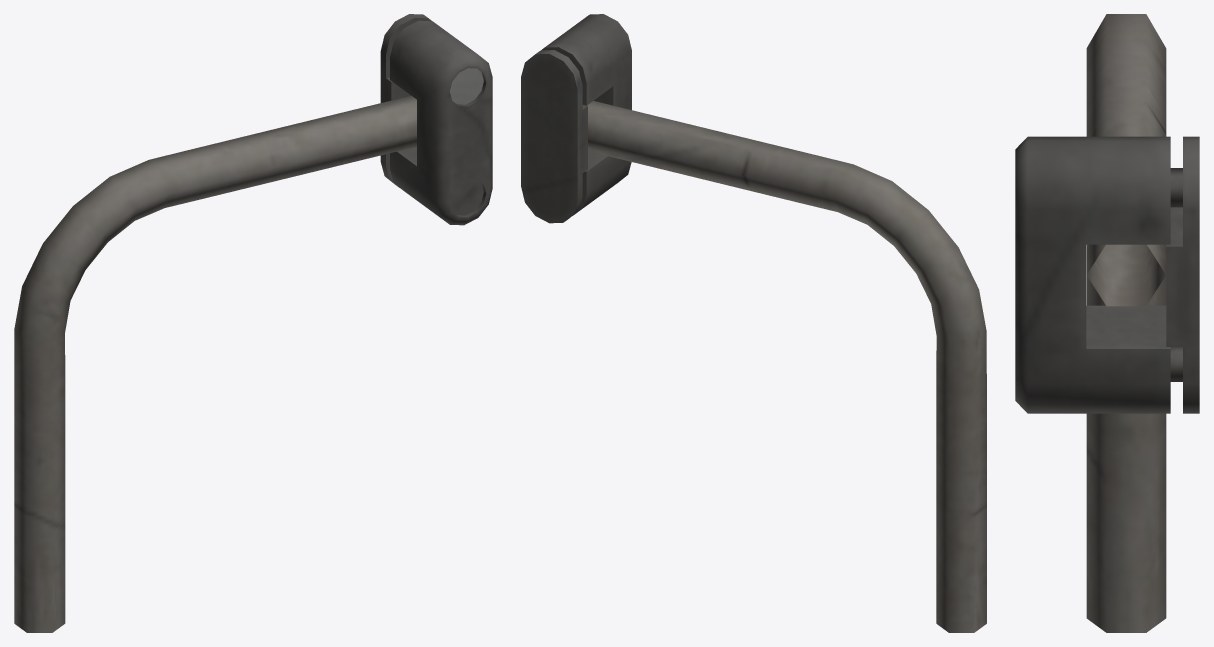
The model's file is cable_turn_short.glb.
3 views of the same model, side by side, from view 1: azimuth 30°, elevation 25°; view 2: azimuth 150°, elevation 25°; view 3: azimuth 270°, elevation 25° (orthographic). The views are drawn at different scales.
Visible parts, largest first — view 1: cable_turn_short; view 2: cable_turn_short; view 3: cable_turn_short.
Boxes of the visible parts, <box> form: cable_turn_short: <box>14,14,492,632</box>; cable_turn_short: <box>521,14,986,632</box>; cable_turn_short: <box>1015,14,1199,632</box>.
Bounding box in the file's own units: 0.1121 × 0.1208 × 0.0259.
Materials: 1 (1 with a texture image).
